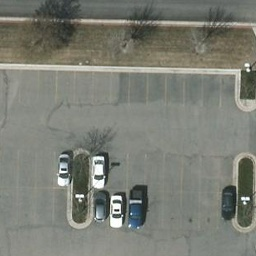car: (126, 193, 145, 228), (218, 185, 237, 220), (55, 154, 73, 187), (89, 155, 107, 188), (90, 192, 108, 225), (108, 194, 126, 227)
